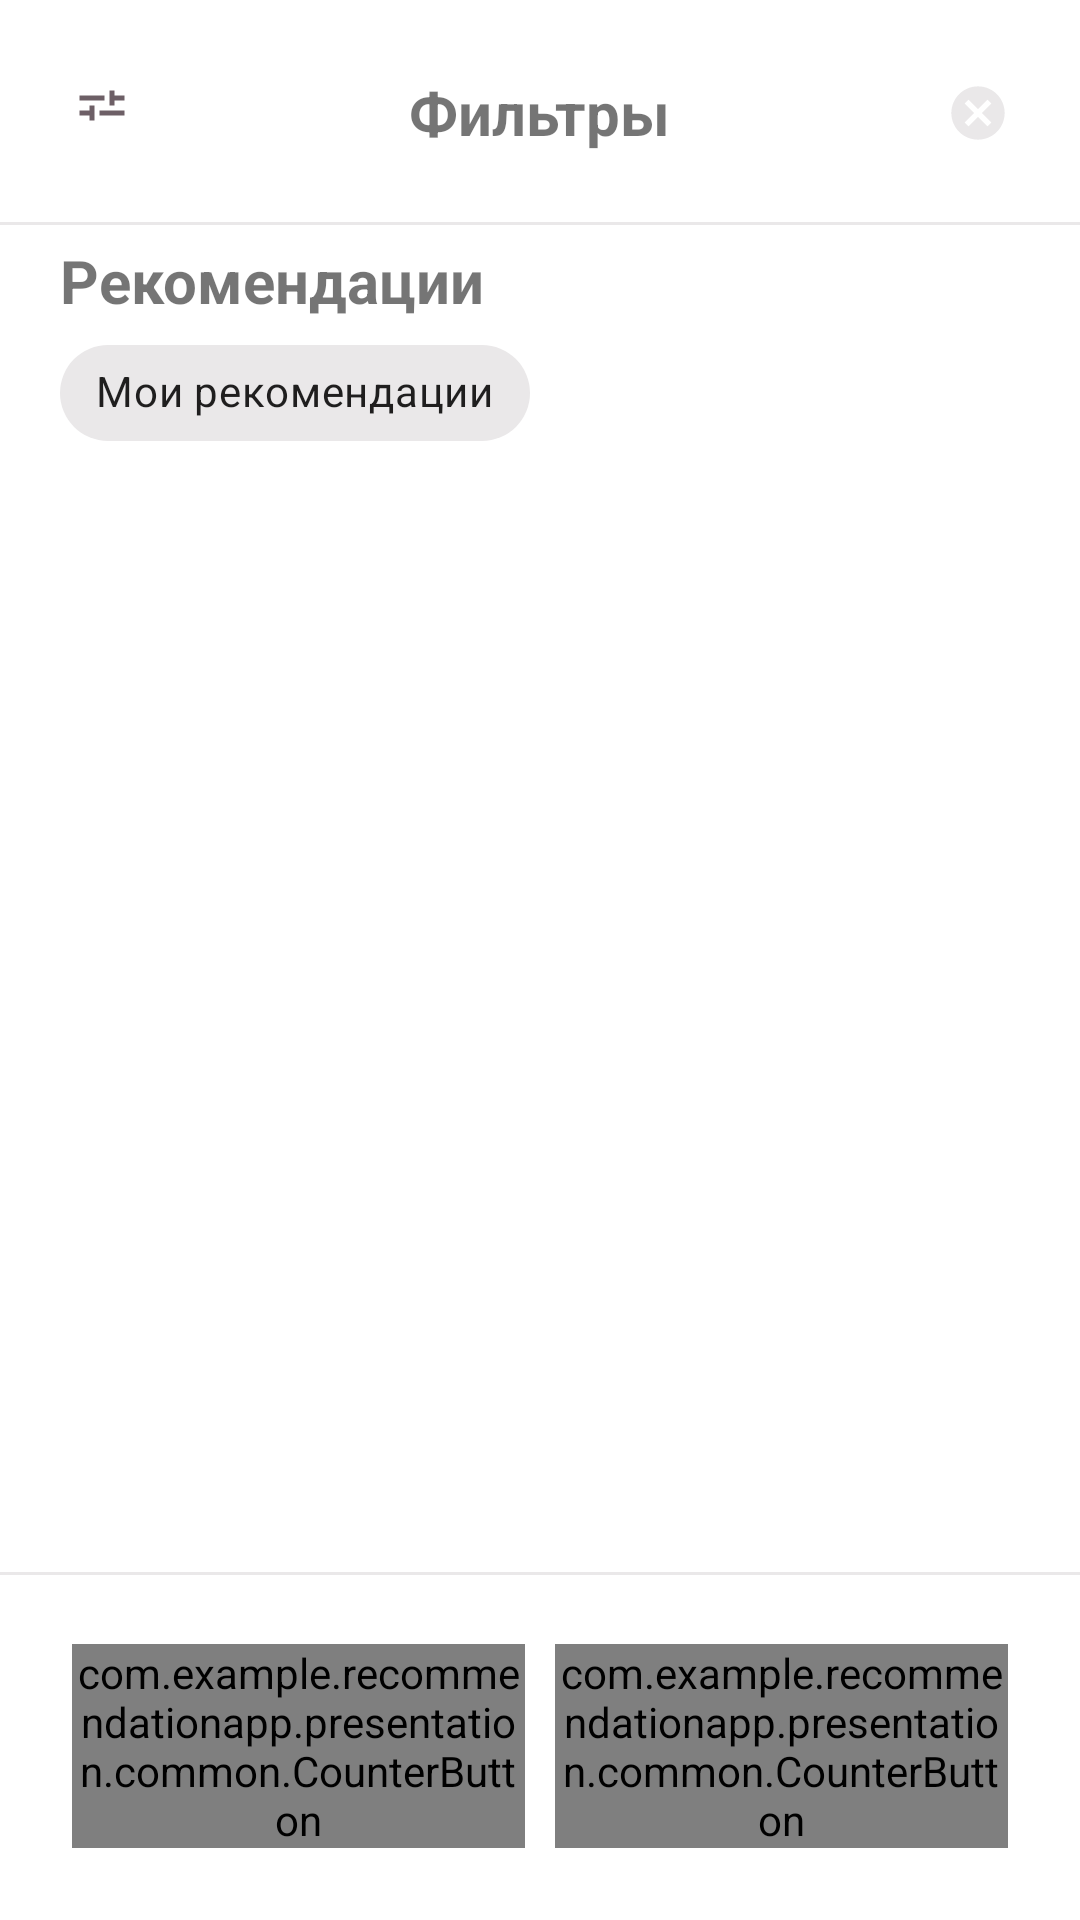

Icons on this 1080w x 1920h Android screen, each with its box as (left=x1, top=y1, right=x2, bottom=y2):
filter: (left=79, top=90, right=125, bottom=121)
